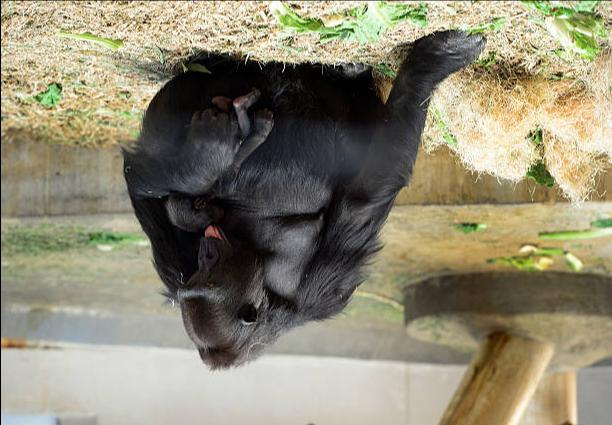gorille_Autres: (100, 34, 422, 382)
